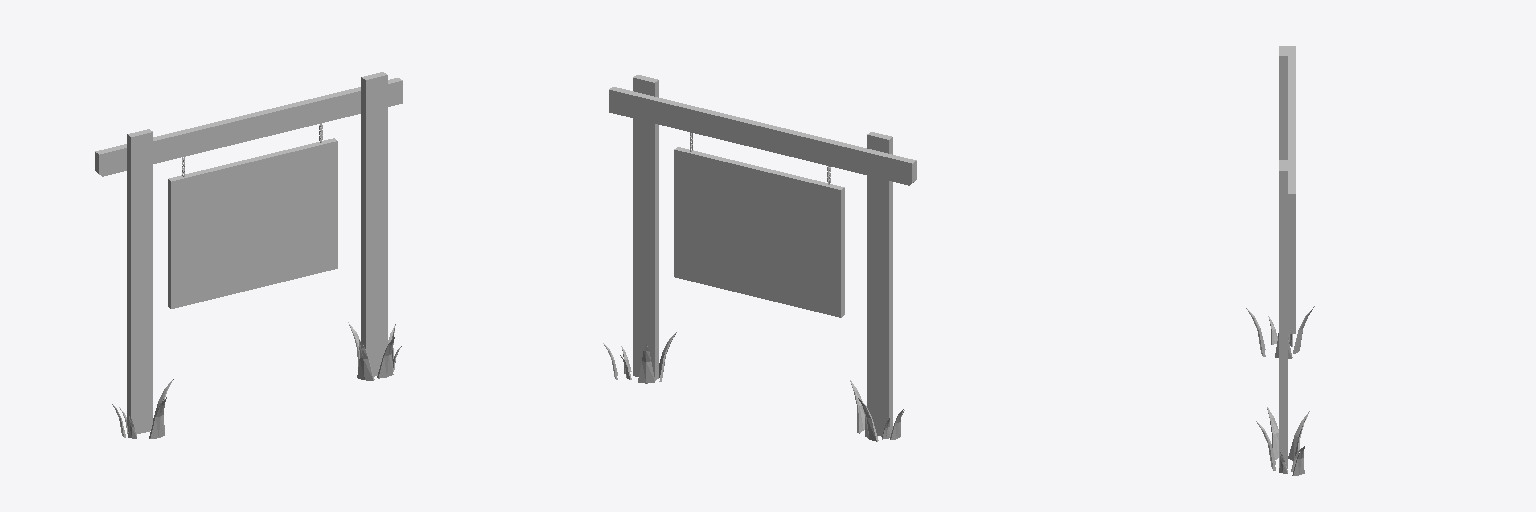
File: Sign4.obj
3 views of the same model, side by side, from view 1: azimuth 30°, elevation 25°; view 2: azimuth 150°, elevation 25°; view 3: azimuth 270°, elevation 25° (orthographic).
Parts seen in each view (by area): view 1: Sign4; view 2: Sign4; view 3: Sign4.
Boxes of the visible parts, <box> form: Sign4: <box>95,72,402,438</box>; Sign4: <box>603,75,916,441</box>; Sign4: <box>1246,46,1314,475</box>.
Size of the model in its own units: 2.22 by 2.08 by 0.4436.